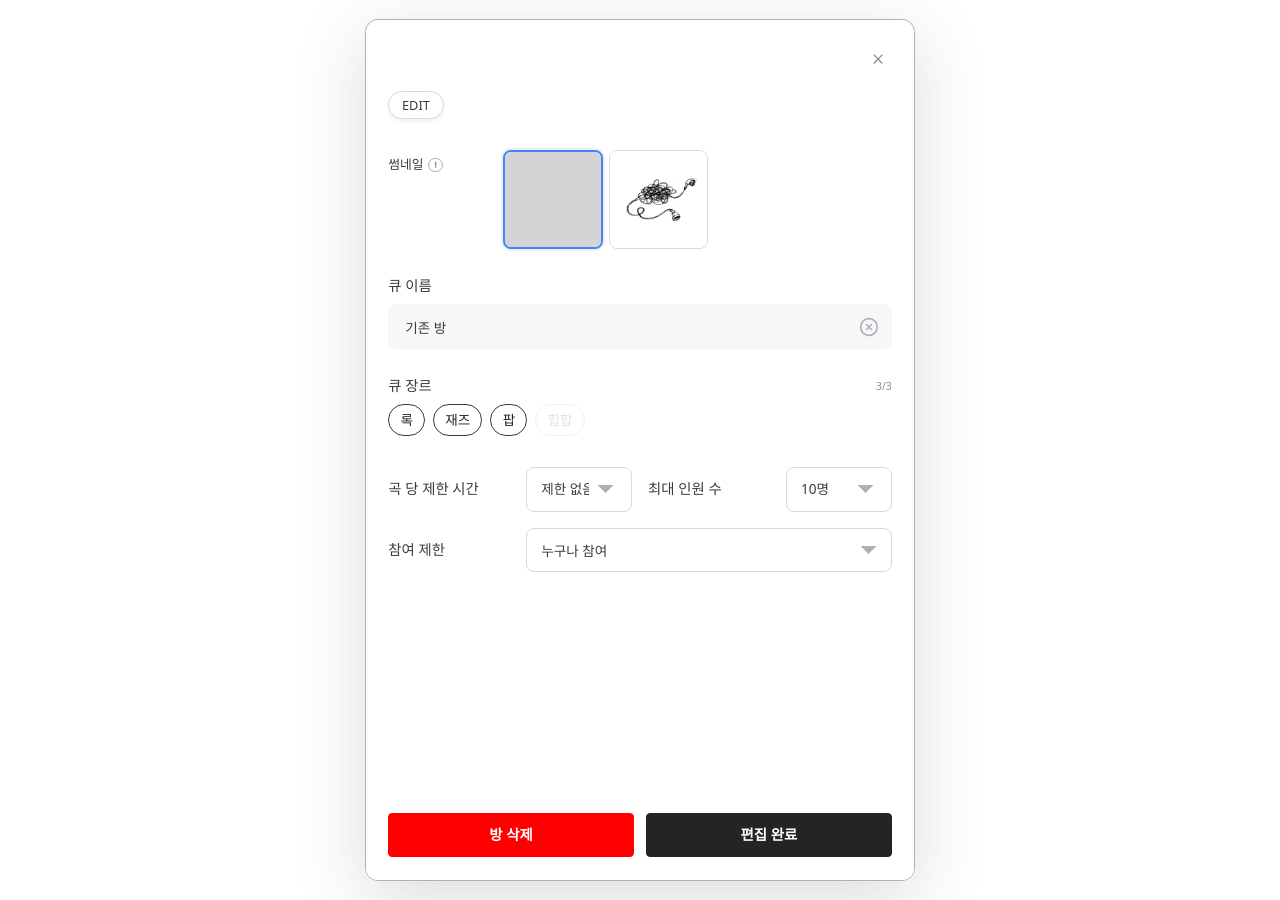
it: RoomFormModal room form flows › 수정 UI도 3개 카운터와 미선택 태그 비활성화를 적용한다
The width and height of the screenshot is (1280, 900).
expect the text "3/3" is shown: met, box [876, 379, 892, 394]
expect the button "힙합" is disabled: met, box [535, 404, 585, 436]
Click the button "팝" at (509,420), box [490, 404, 527, 436]
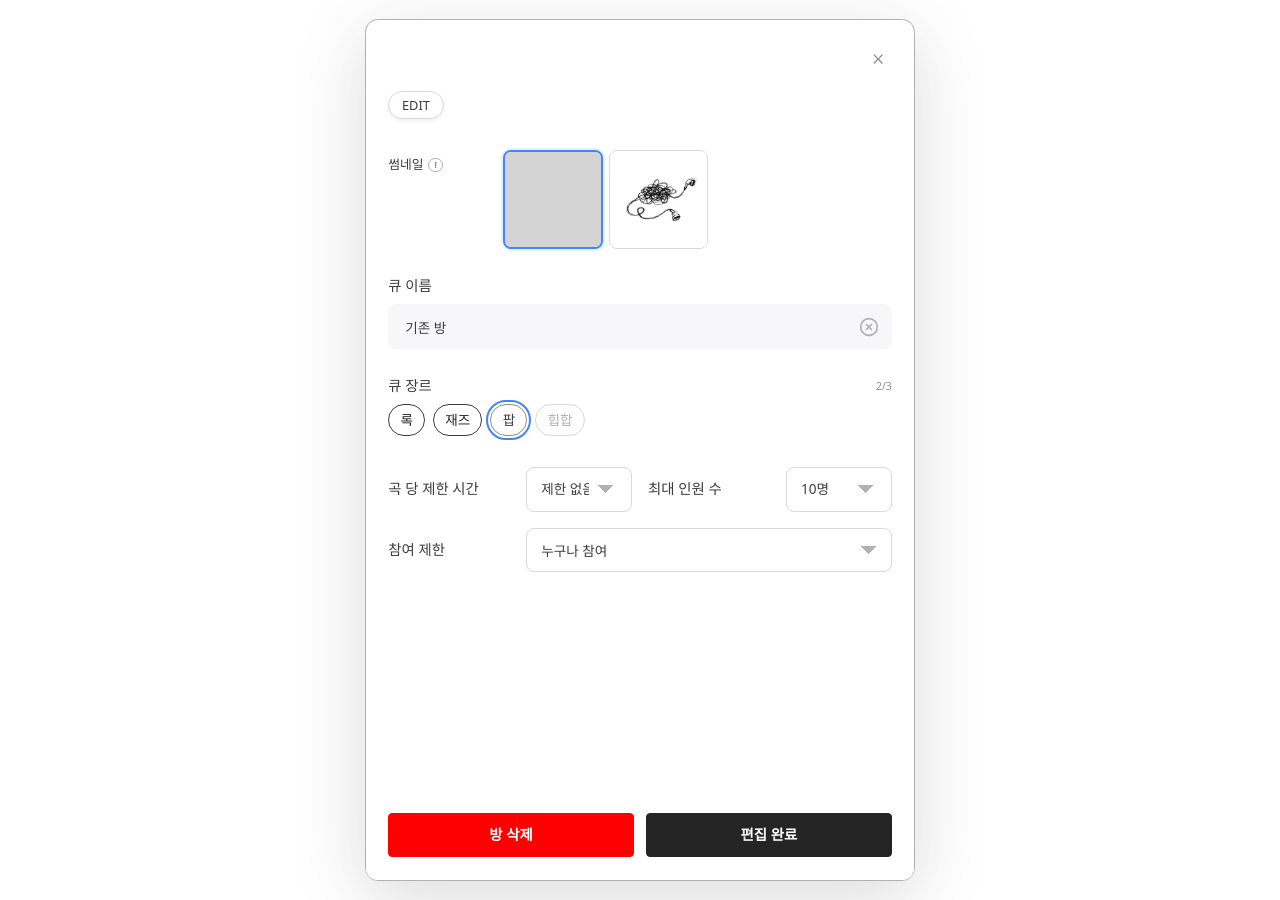
expect the element with id "edit-room-thumbnail" is shown: met, box [388, 150, 708, 249]
expect the text "2/3" is shown: met, box [876, 379, 892, 394]
expect the button "힙합" is enabled: met, box [535, 404, 585, 436]
